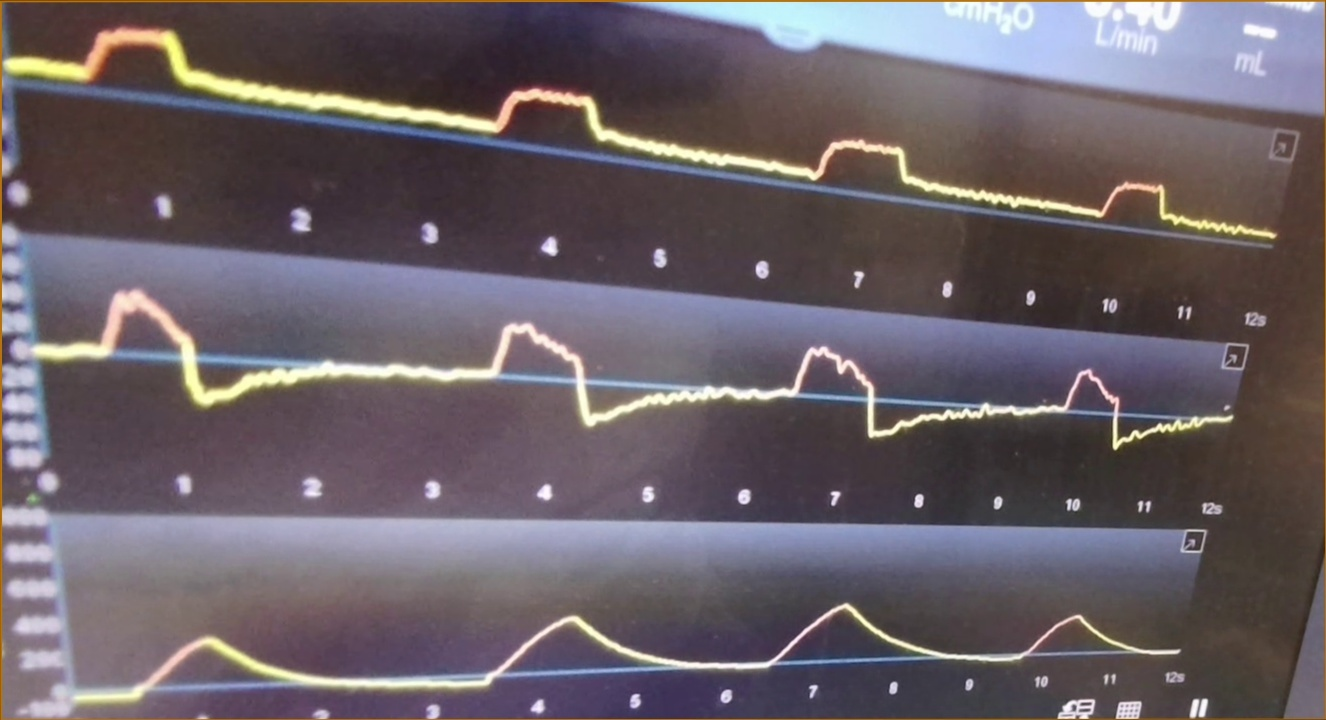Accumulation Flow: (39, 280, 1236, 461)
Volume: (75, 588, 1182, 710)
